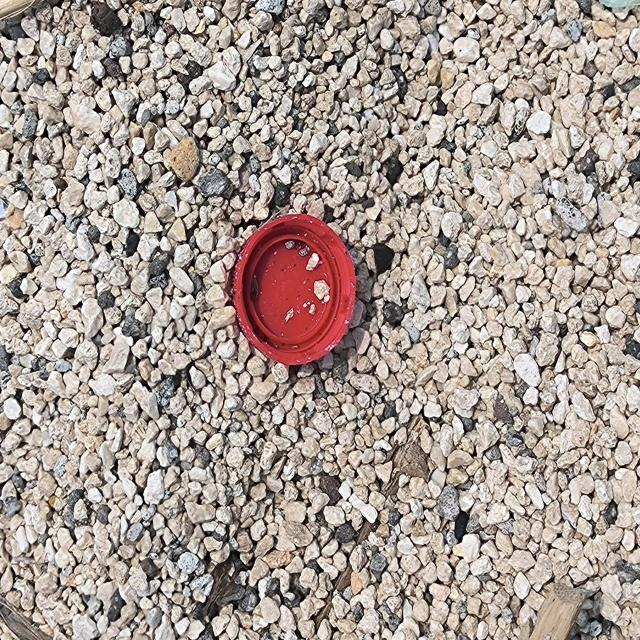plastic_waste: (231, 212, 359, 368)
